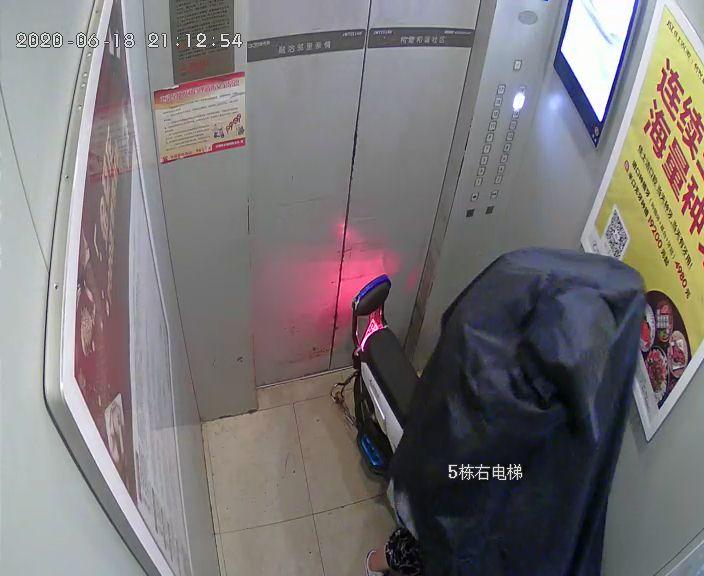Electric-bicycle: (337, 274, 427, 470)
